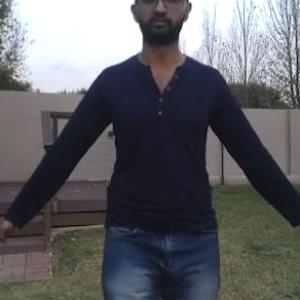land: (18, 3, 292, 299)
